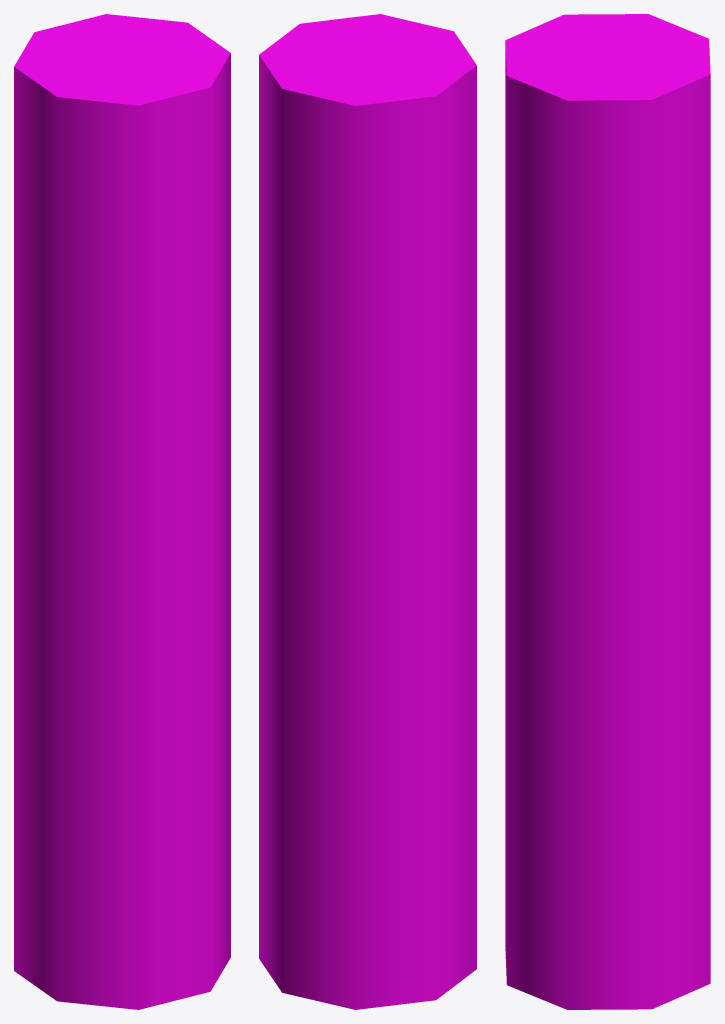
Rendered from PLAYER.fbx.
3 views of the same model, side by side, from view 1: azimuth 30°, elevation 25°; view 2: azimuth 150°, elevation 25°; view 3: azimuth 270°, elevation 25° (orthographic).
Visible parts, largest first — view 1: _6foot; view 2: _6foot; view 3: _6foot.
Part boxes in pixels (box(x1,y1,x2,y2)): _6foot: box(14, 14, 230, 1009); _6foot: box(259, 14, 476, 1009); _6foot: box(505, 14, 710, 1009).
Size of the model in its own units: 37.21 by 182 by 37.21.
